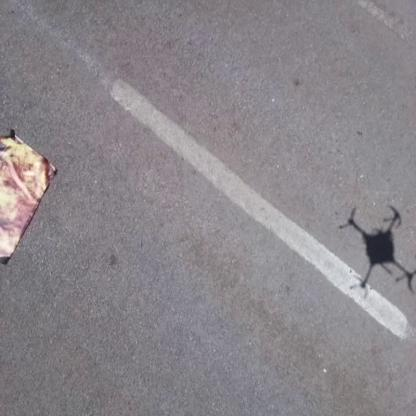fire-poster: (0, 127, 58, 265)
